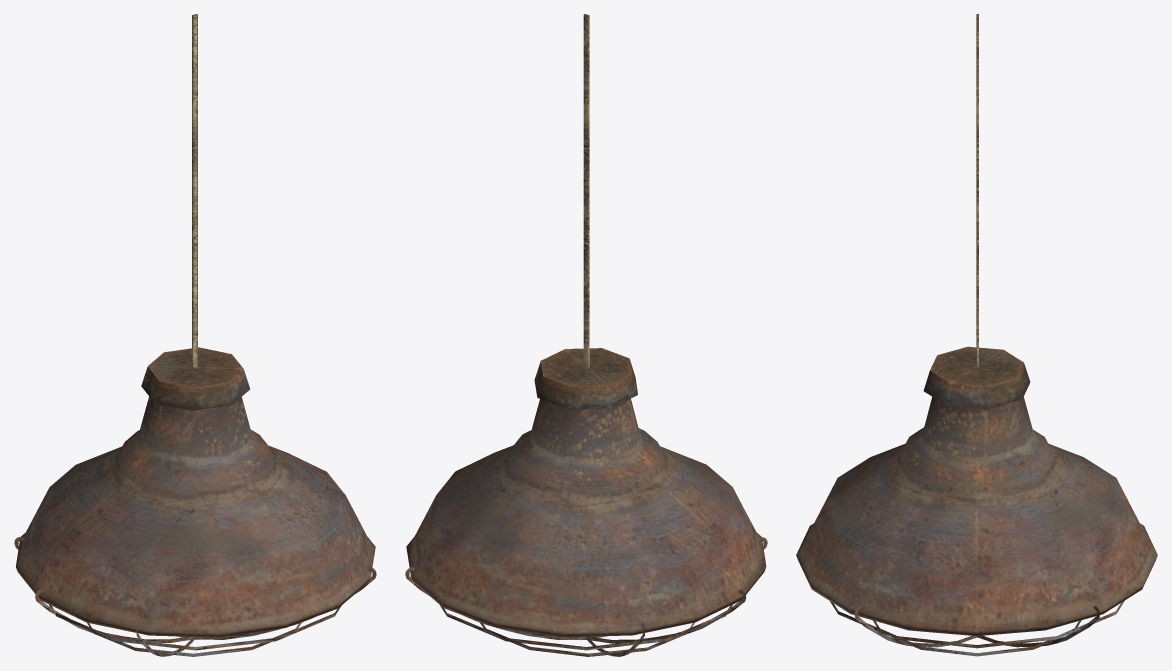
File: Pendantlight.fbx
3 views of the same model, side by side, from view 1: azimuth 30°, elevation 25°; view 2: azimuth 150°, elevation 25°; view 3: azimuth 270°, elevation 25° (orthographic).
Visible parts, largest first — view 1: LOD_1_Group_1_Sub_1__sm35_004_PendantLight01A_A_Mat; view 2: LOD_1_Group_1_Sub_1__sm35_004_PendantLight01A_A_Mat; view 3: LOD_1_Group_1_Sub_1__sm35_004_PendantLight01A_A_Mat.
Part boxes in pixels (box(x1,y1,x2,y2)): LOD_1_Group_1_Sub_1__sm35_004_PendantLight01A_A_Mat: box(14, 14, 376, 656); LOD_1_Group_1_Sub_1__sm35_004_PendantLight01A_A_Mat: box(405, 14, 767, 656); LOD_1_Group_1_Sub_1__sm35_004_PendantLight01A_A_Mat: box(796, 14, 1157, 656).
Size of the model in its own units: 0.4941 by 0.9211 by 0.4853.
